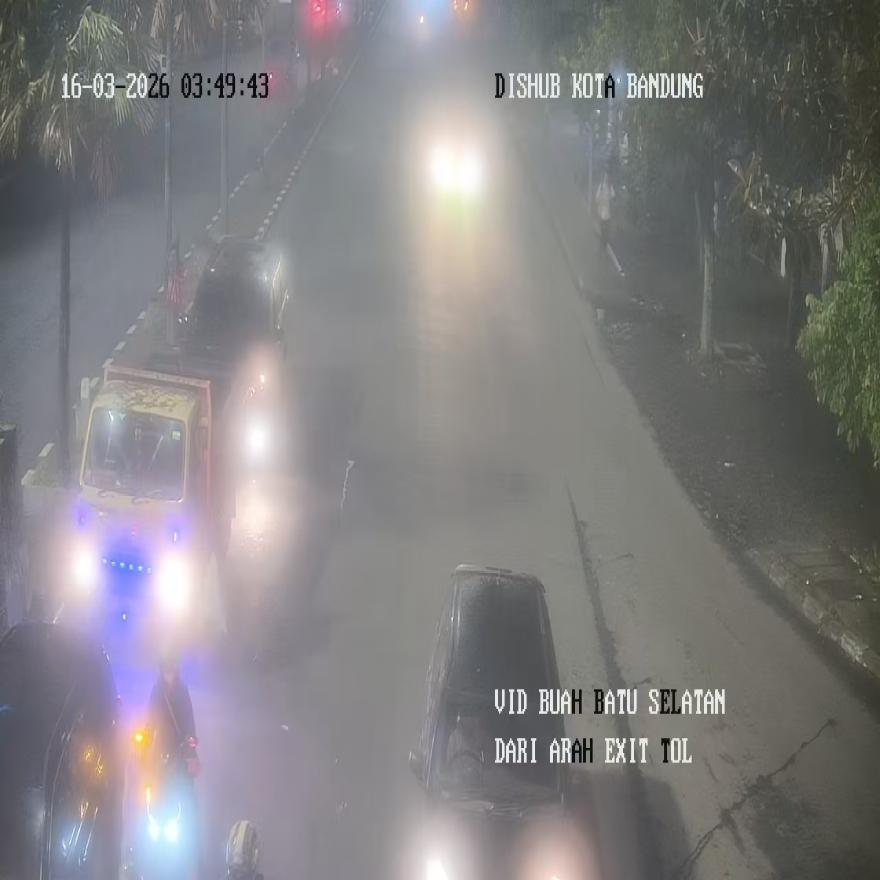Mobil: (408, 564, 594, 878), (0, 619, 124, 877)
Motor: (133, 666, 200, 878)
Truk ringan: (69, 359, 236, 643)
